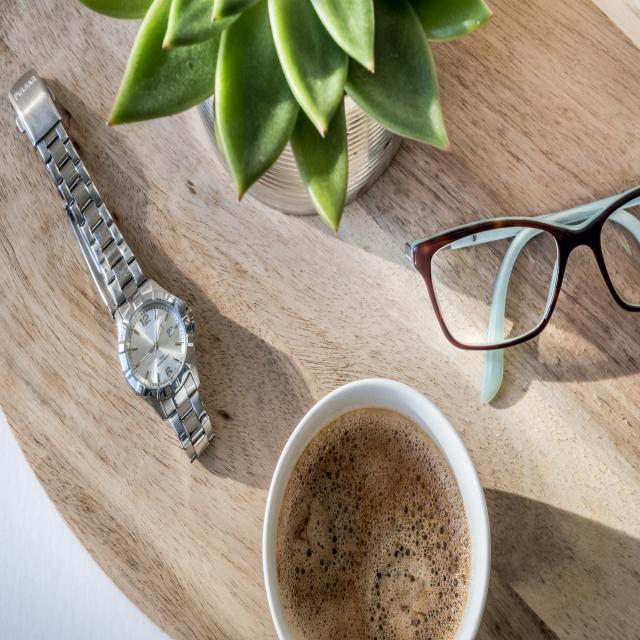cup: (266, 369, 505, 640)
glasses: (394, 197, 640, 336)
hour: (15, 69, 218, 512)
